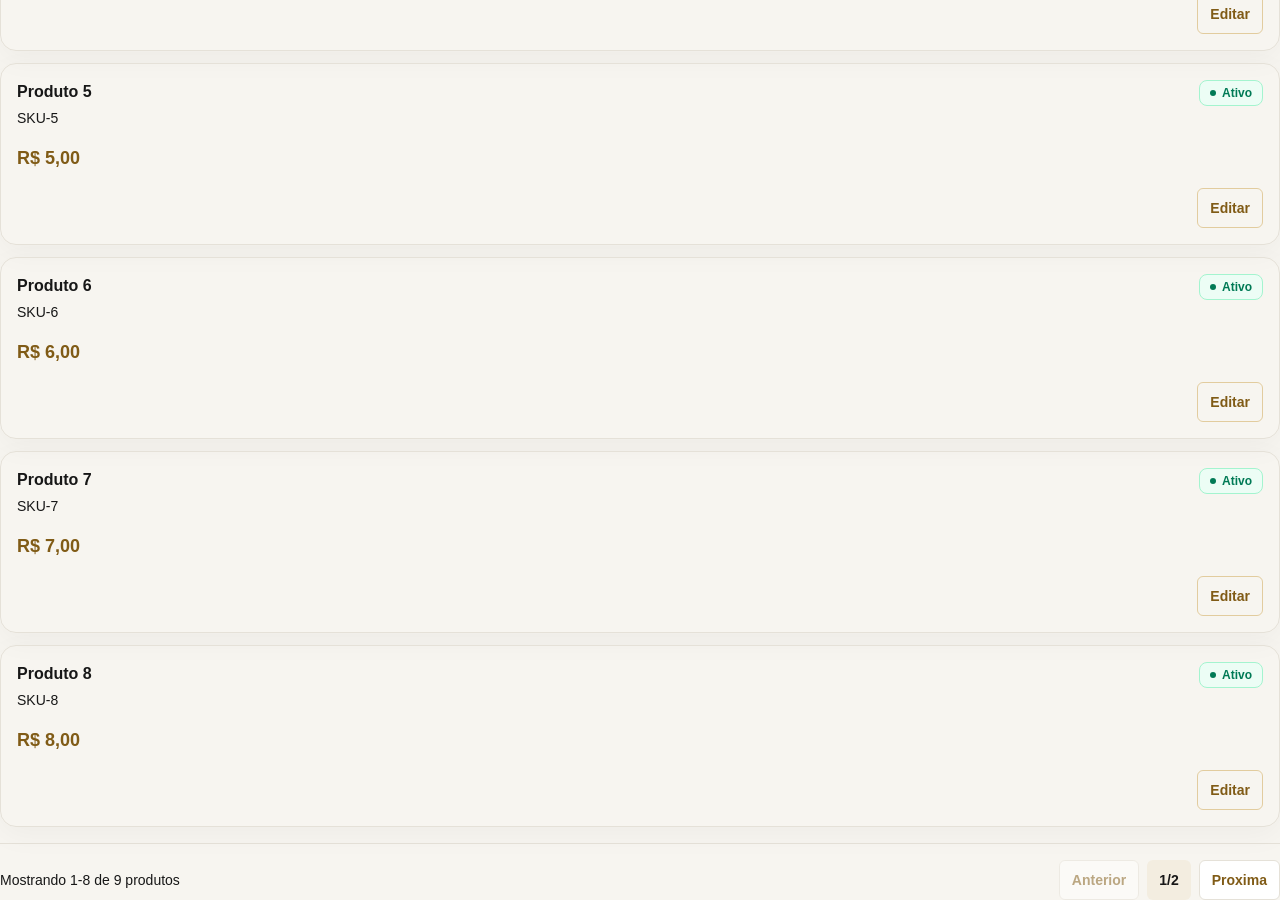
ProductCatalog › paginates product results
(page scrolled)
expect the text "Mostrando 1-8 de 9 produtos" is shown: met, box top-left (0, 870), bottom-right (180, 890)
expect the text "Produto 9" is not shown: met
Step 1. Click the button "Proxima" → (1239, 880), box top-left (1199, 860), bottom-right (1279, 899)
(page scrolled)
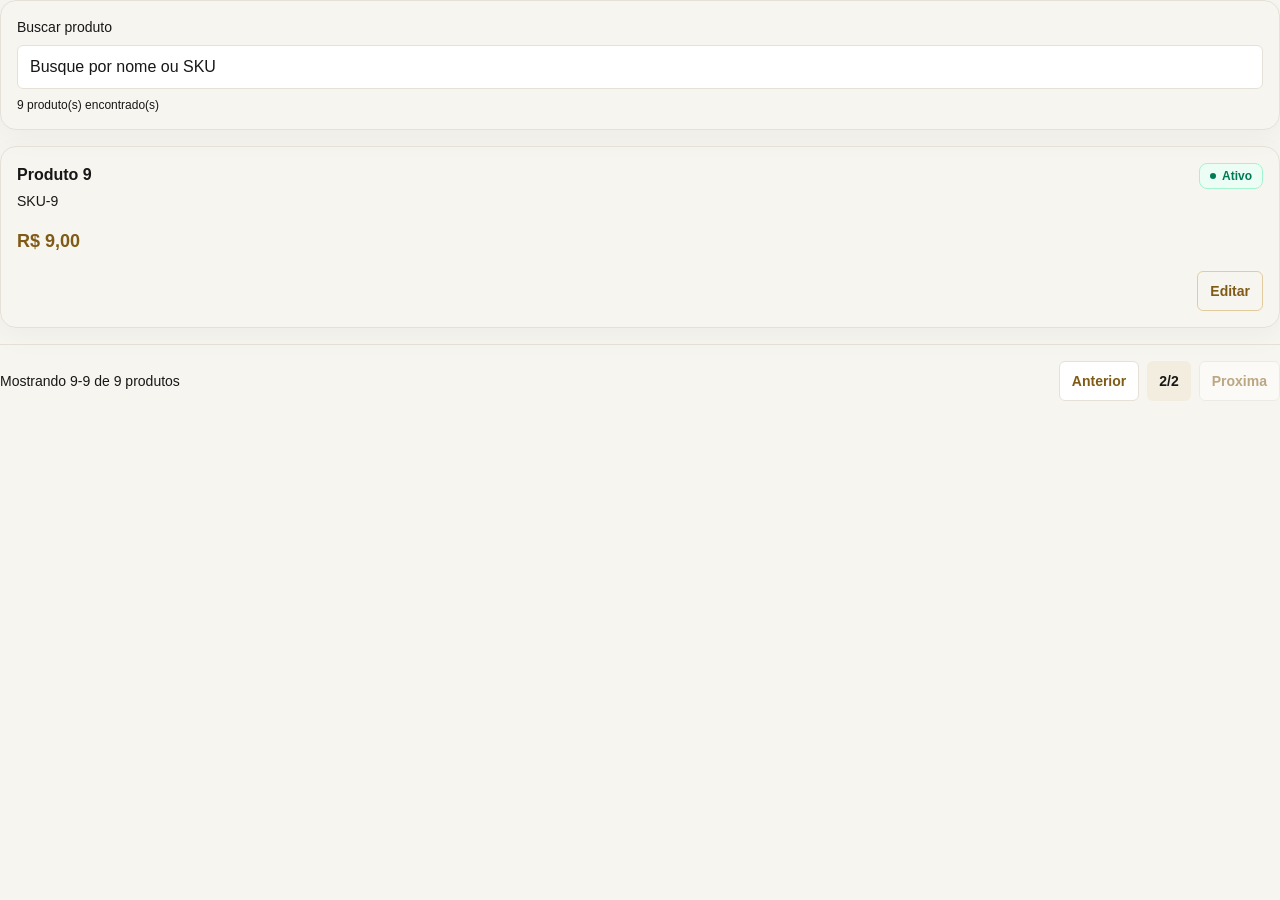
expect the text "Mostrando 9-9 de 9 produtos" is shown: met, box top-left (0, 371), bottom-right (180, 391)
expect the heading "Produto 9" is shown: met, box top-left (17, 163), bottom-right (92, 187)
